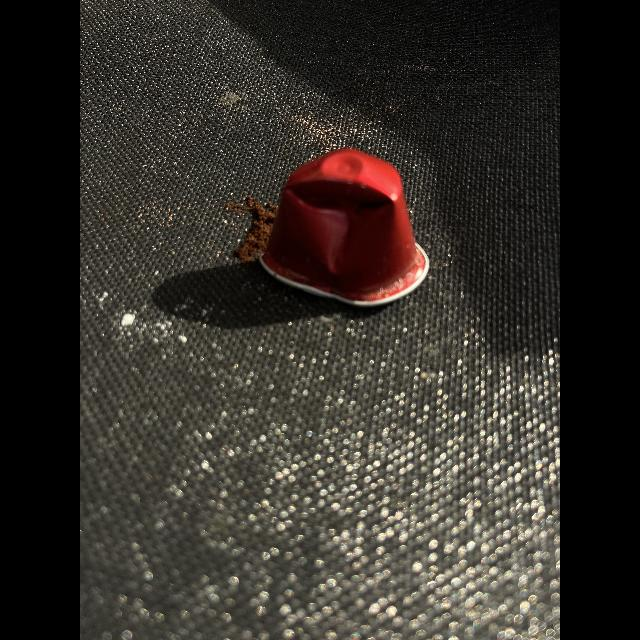damaged_capsule: (252, 129, 450, 319)
